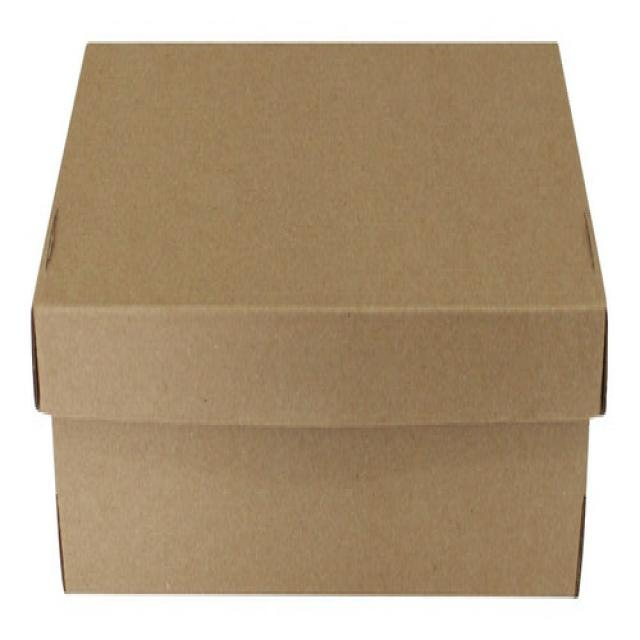Carton: (30, 45, 607, 588)
